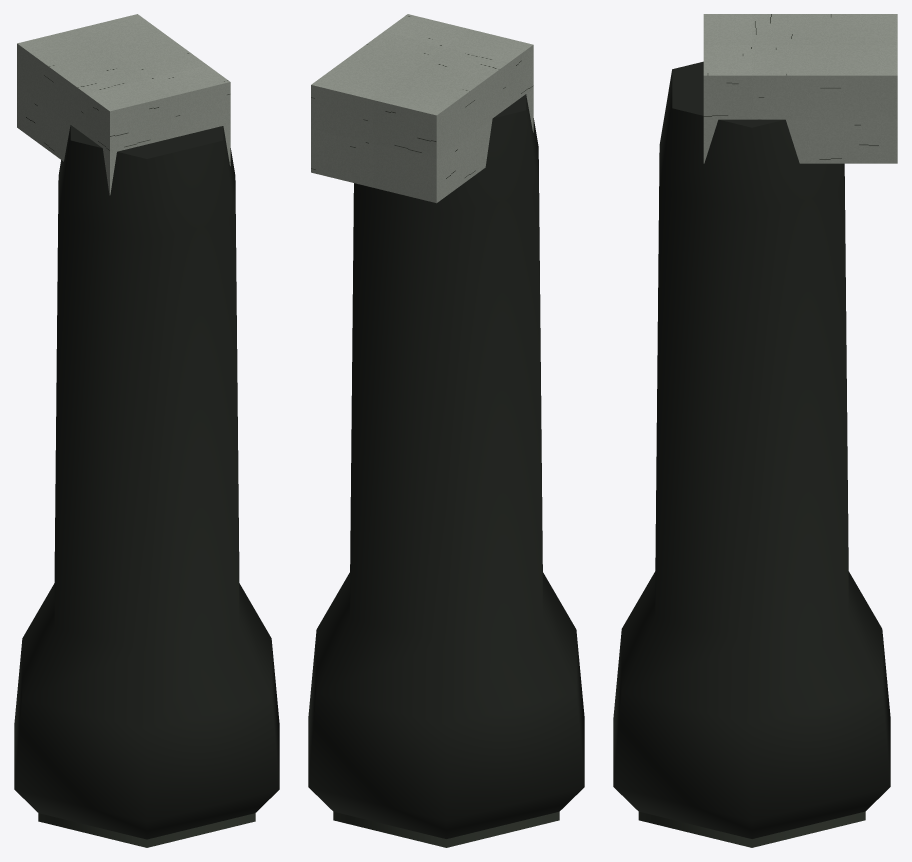
The model's file is SM_FieldKit_Handset_LOD2.fbx.
3 renders of one model, left to right at view 1: azimuth 30°, elevation 25°; view 2: azimuth 150°, elevation 25°; view 3: azimuth 270°, elevation 25°, orthographic. The views are drawn at different scales.
Parts seen in each view (by area): view 1: SM_FieldKit_Handset_LOD2; view 2: SM_FieldKit_Handset_LOD2; view 3: SM_FieldKit_Handset_LOD2.
Part boxes in pixels (x1,y1,x2,y2): SM_FieldKit_Handset_LOD2: [14, 14, 279, 847]; SM_FieldKit_Handset_LOD2: [308, 14, 584, 847]; SM_FieldKit_Handset_LOD2: [613, 14, 897, 847].
Bounding box in the file's own units: 0.066 × 0.0586 × 0.17.
